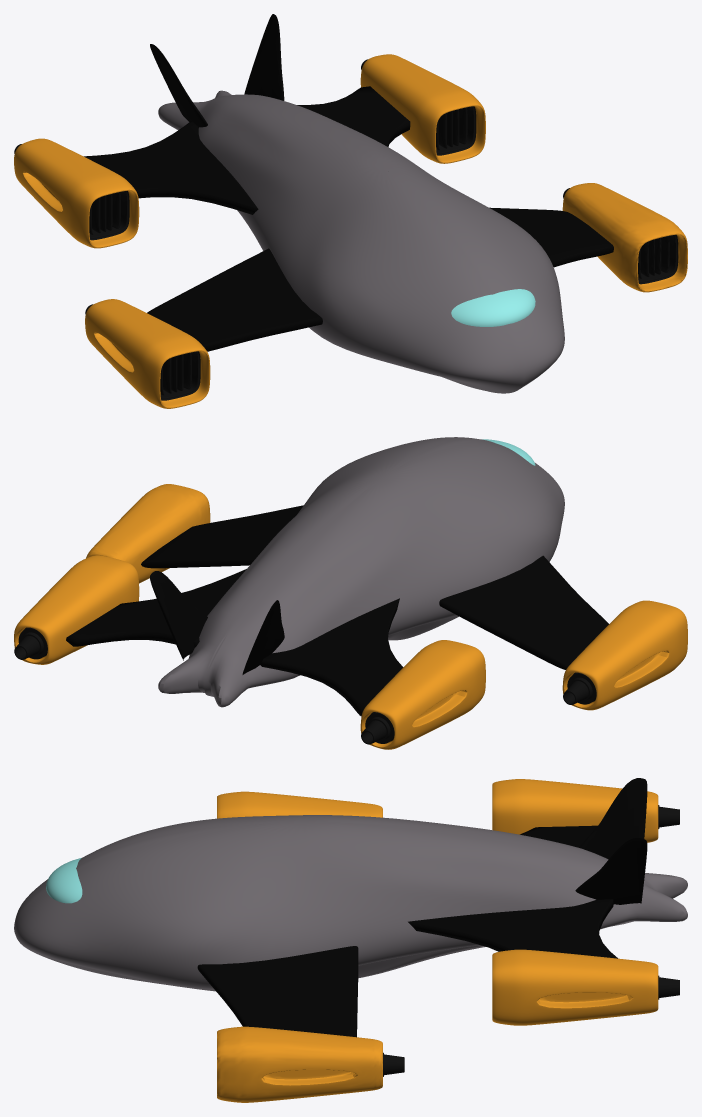
Rendered from SpaceShip.fbx.
3 renders of one model, top to bottom at view 1: azimuth 30°, elevation 25°; view 2: azimuth 150°, elevation 25°; view 3: azimuth 270°, elevation 25°, orthographic.
Visible parts, largest first — view 1: Sphere, Cube.001, Cube.002, Plane, Plane.001, Plane.002, Sphere.001; view 2: Sphere, Cube.001, Plane, Cube.002, Plane.001, Plane.002; view 3: Sphere, Cube.001, Cube.002, Plane, Plane.001, Plane.002, Sphere.001.
Boxes of the visible parts, bbox=[...] form: Sphere: bbox=[158, 90, 564, 393]; Cube.001: bbox=[14, 54, 485, 248]; Cube.002: bbox=[85, 183, 687, 408]; Plane: bbox=[147, 207, 613, 351]; Plane.001: bbox=[84, 86, 410, 214]; Plane.002: bbox=[150, 14, 284, 127]; Sphere.001: bbox=[451, 289, 535, 326]; Sphere: bbox=[158, 437, 564, 707]; Cube.001: bbox=[14, 555, 485, 749]; Plane: bbox=[141, 505, 608, 669]; Cube.002: bbox=[86, 484, 687, 710]; Plane.001: bbox=[66, 569, 403, 716]; Plane.002: bbox=[150, 571, 284, 674]; Sphere: bbox=[14, 815, 687, 991]; Cube.001: bbox=[492, 779, 679, 1025]; Cube.002: bbox=[217, 791, 404, 1102]; Plane: bbox=[197, 946, 358, 1037]; Plane.001: bbox=[408, 825, 617, 958]; Plane.002: bbox=[575, 778, 647, 904]; Sphere.001: bbox=[46, 858, 82, 903].
Bounding box in the file's own units: 756 × 238 × 815.
